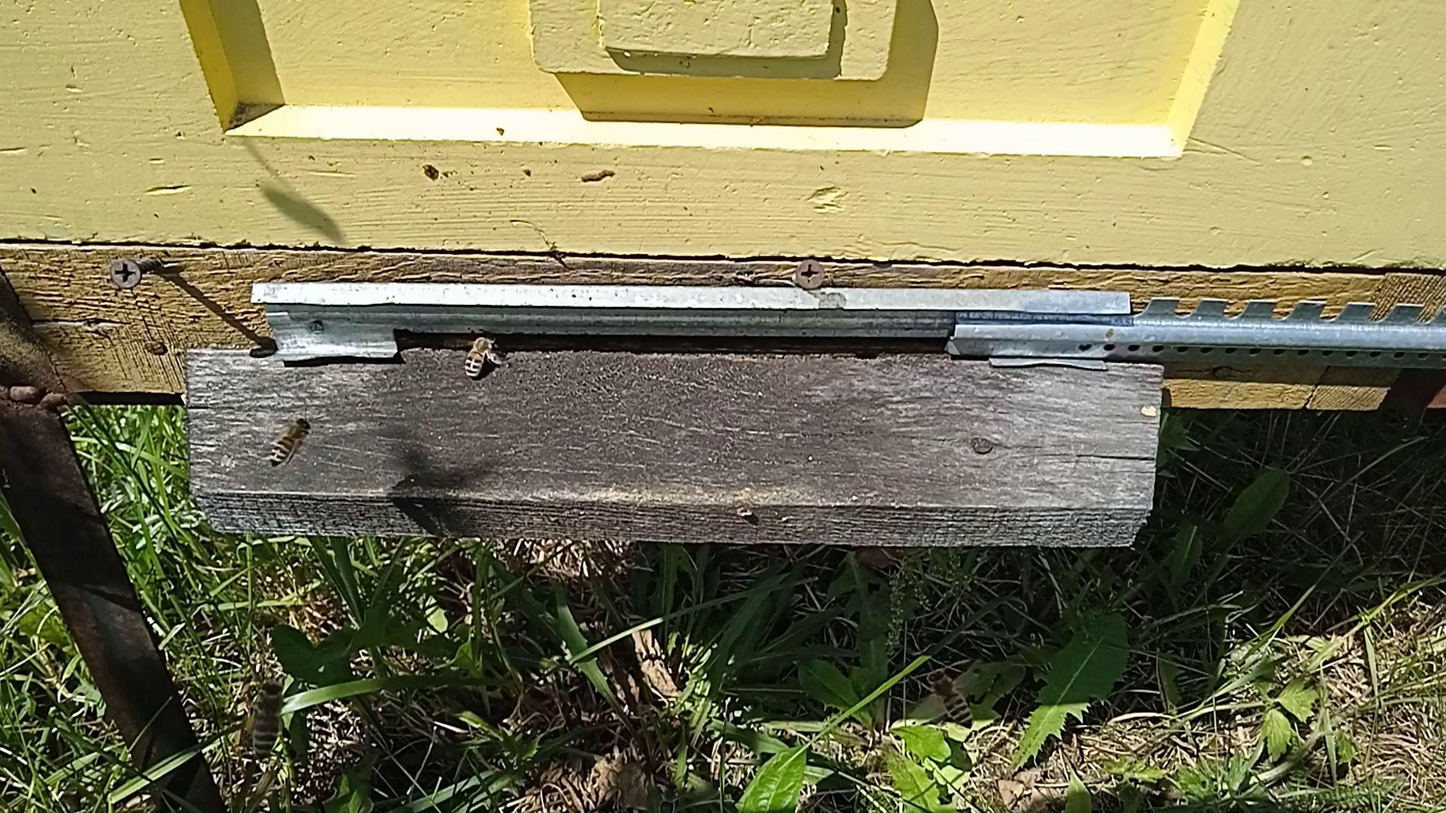worker-bee: (249, 682, 285, 759), (926, 668, 973, 726), (269, 416, 312, 466), (462, 331, 499, 379)
